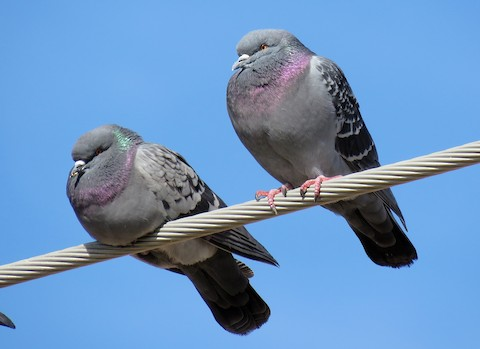pigeon: (221, 26, 428, 269), (60, 119, 284, 338)
